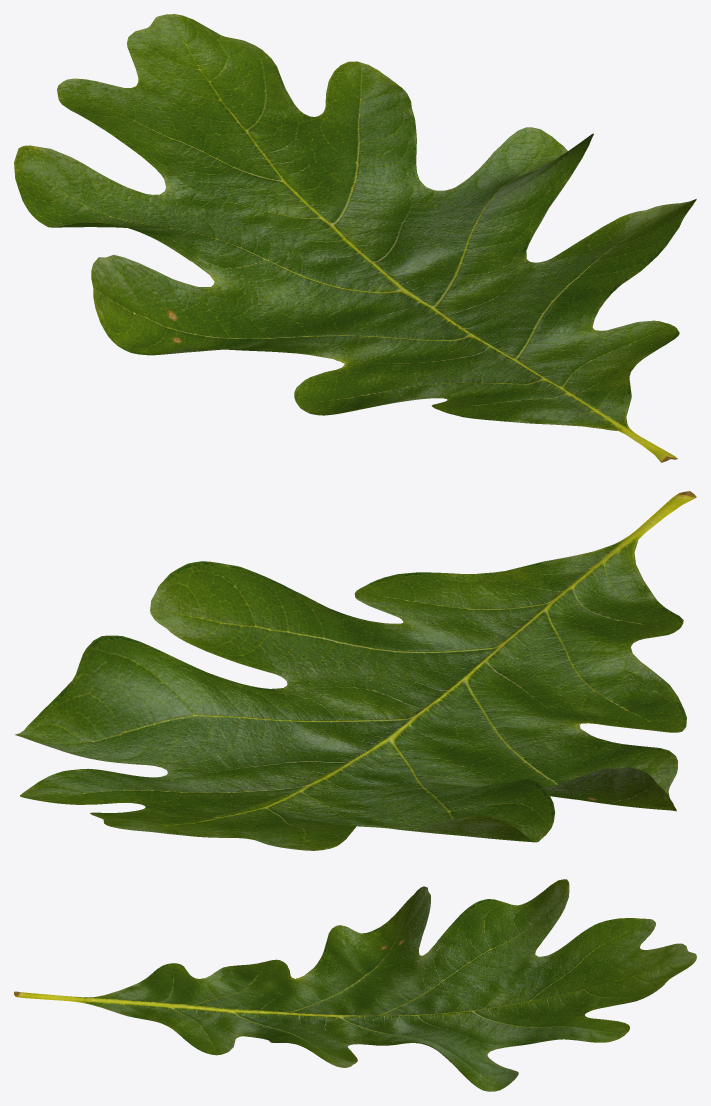
The model's file is white-oak-leaf.glb.
3 views of the same model, one above another, from view 1: azimuth 30°, elevation 25°; view 2: azimuth 150°, elevation 25°; view 3: azimuth 270°, elevation 25° (orthographic). The views are drawn at different scales.
Parts seen in each view (by area): view 1: White oak leaf · LOD 0; view 2: White oak leaf · LOD 0; view 3: White oak leaf · LOD 0.
Boxes of the visible parts, box(x1,y1,x2,y2) form: White oak leaf · LOD 0: box(14, 14, 696, 462); White oak leaf · LOD 0: box(14, 491, 696, 850); White oak leaf · LOD 0: box(14, 879, 696, 1091).
Bounding box in the file's own units: 0.108 × 0.0201 × 0.18.
1 material, 1 textured.
